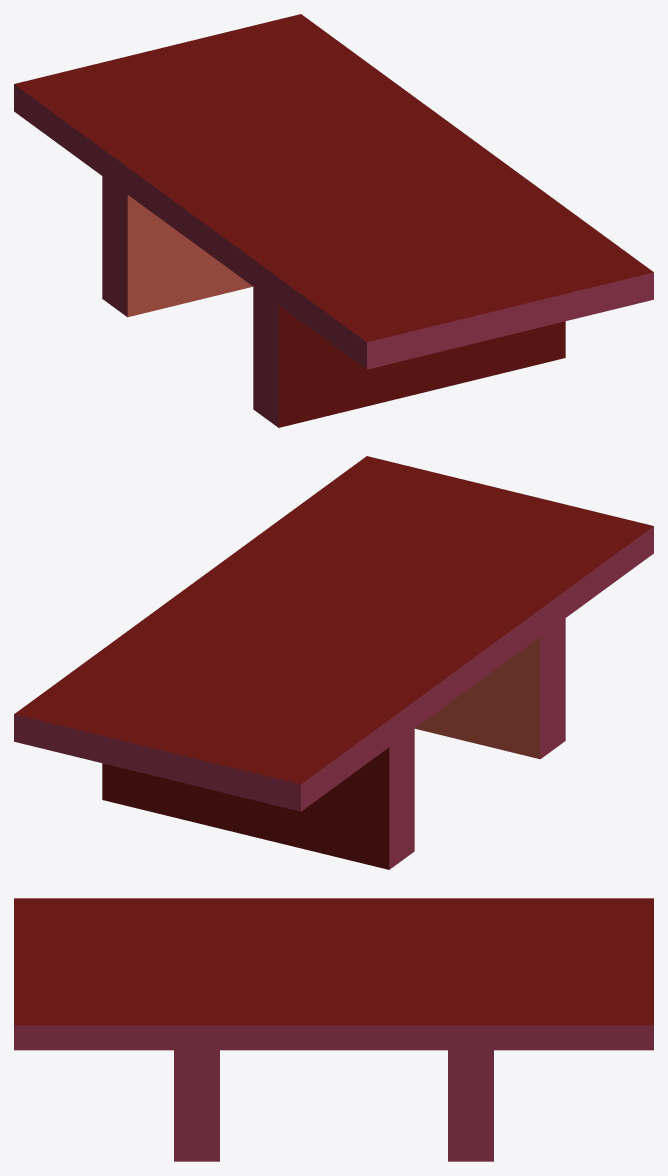
The model's file is table.fbx.
3 views of the same model, one above another, from view 1: azimuth 30°, elevation 25°; view 2: azimuth 150°, elevation 25°; view 3: azimuth 270°, elevation 25° (orthographic). The views are drawn at different scales.
Parts seen in each view (by area): view 1: table; view 2: table; view 3: table.
Boxes of the visible parts, bbox=[...] form: table: bbox=[14, 14, 653, 427]; table: bbox=[14, 456, 653, 869]; table: bbox=[14, 898, 653, 1161].
Bounding box in the file's own units: 109 × 54.54 × 232.
